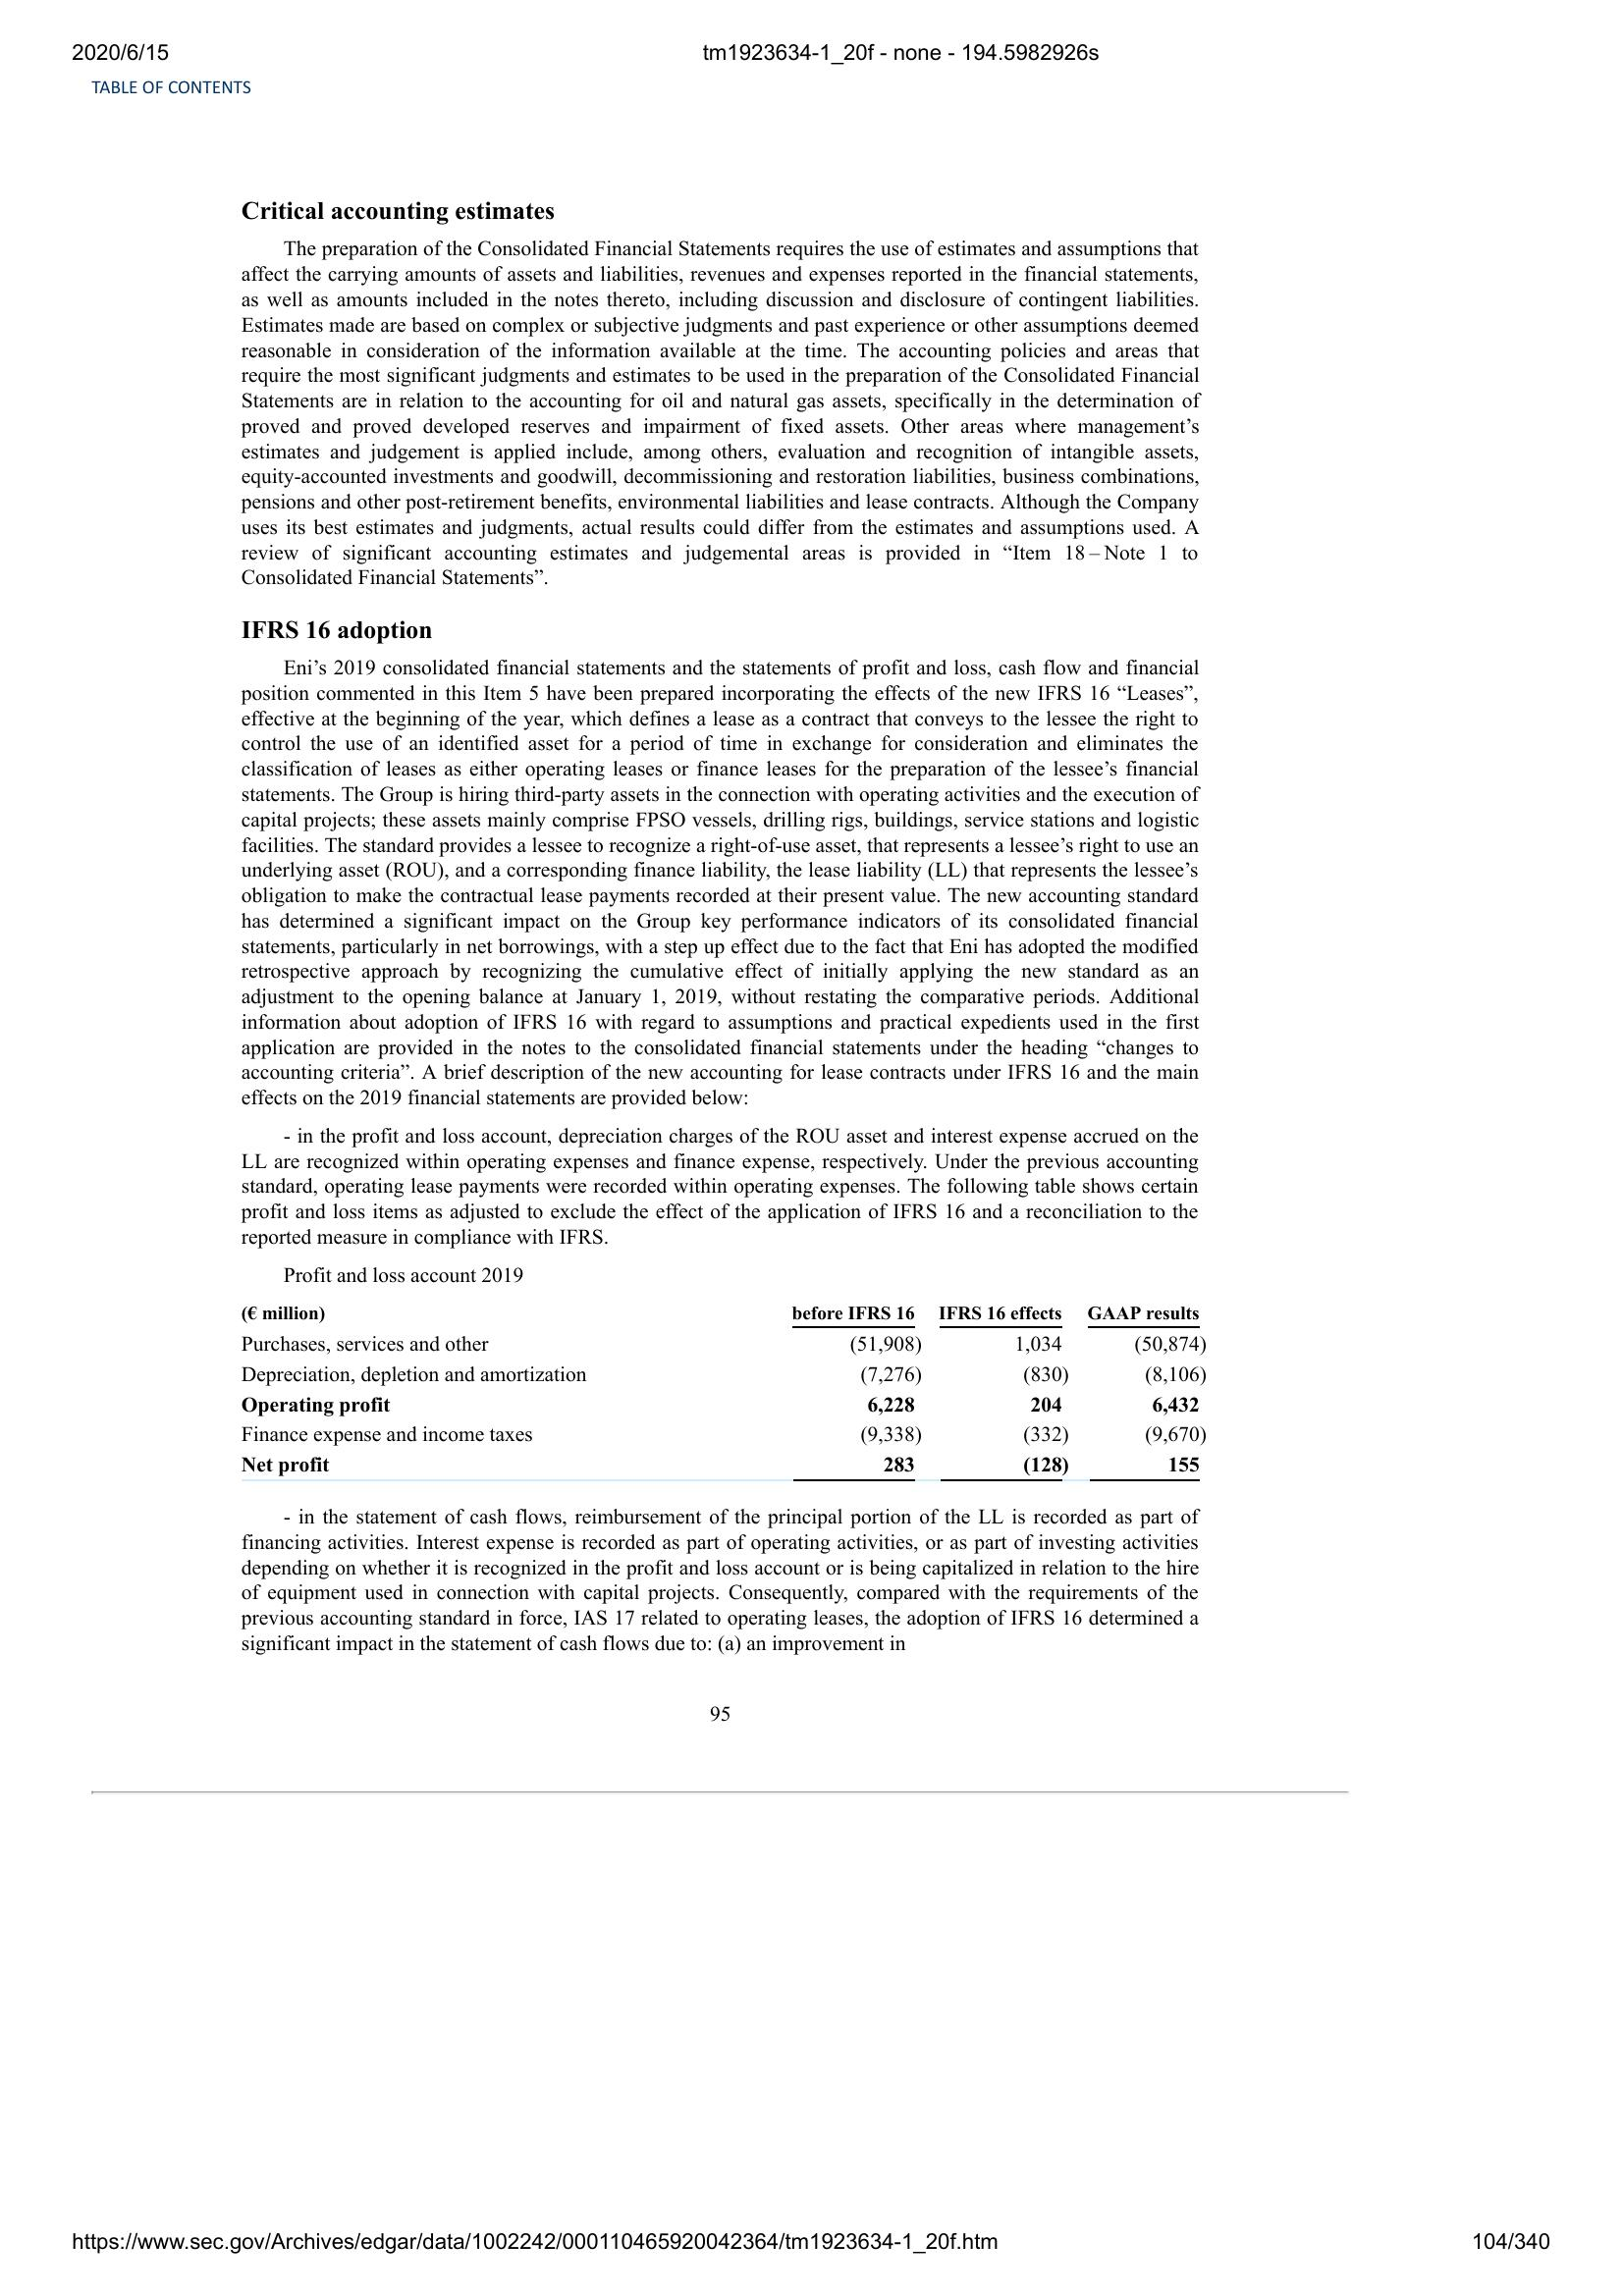table: (234, 1290, 1214, 1487)
